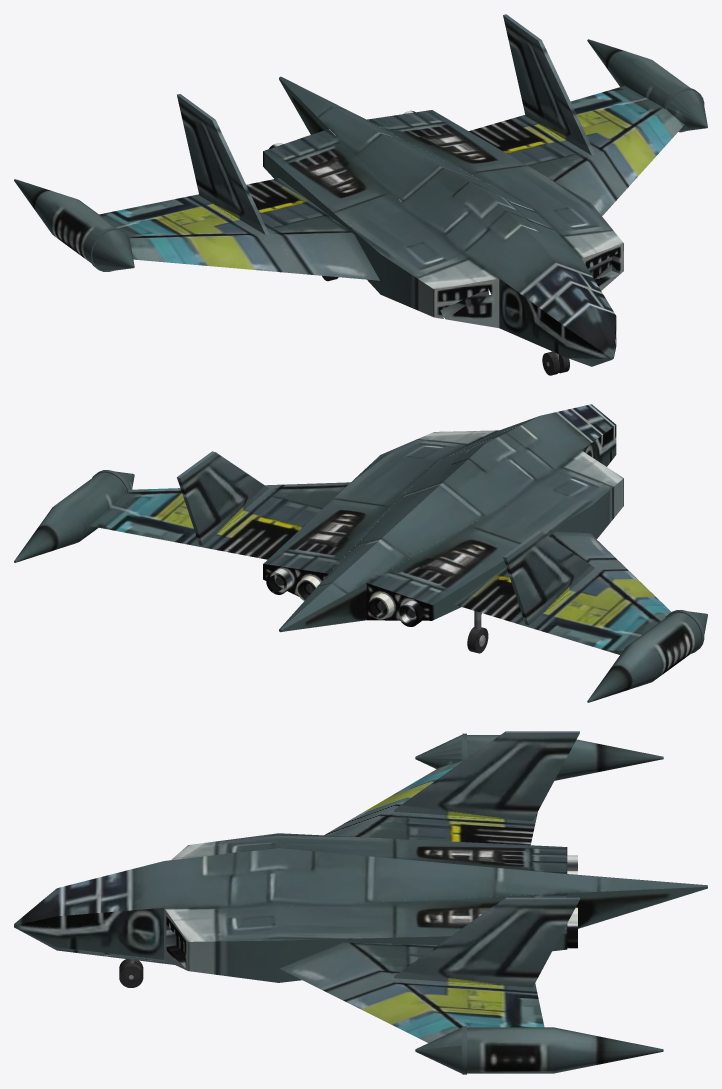
File: slayerp_cad.glb
3 renders of one model, top to bottom at view 1: azimuth 30°, elevation 25°; view 2: azimuth 150°, elevation 25°; view 3: azimuth 270°, elevation 25°, orthographic. The views are drawn at different scales.
Parts seen in each view (by area): view 1: Slayer; view 2: Slayer; view 3: Slayer.
Boxes of the visible parts, x1=… form: Slayer: x1=14, y1=14, x2=707, y2=375; Slayer: x1=14, y1=404, x2=707, y2=702; Slayer: x1=14, y1=731, x2=707, y2=1074.
Size of the model in its own units: 24.37 by 6.13 by 22.84.
Materials: 1 (1 with a texture image).
